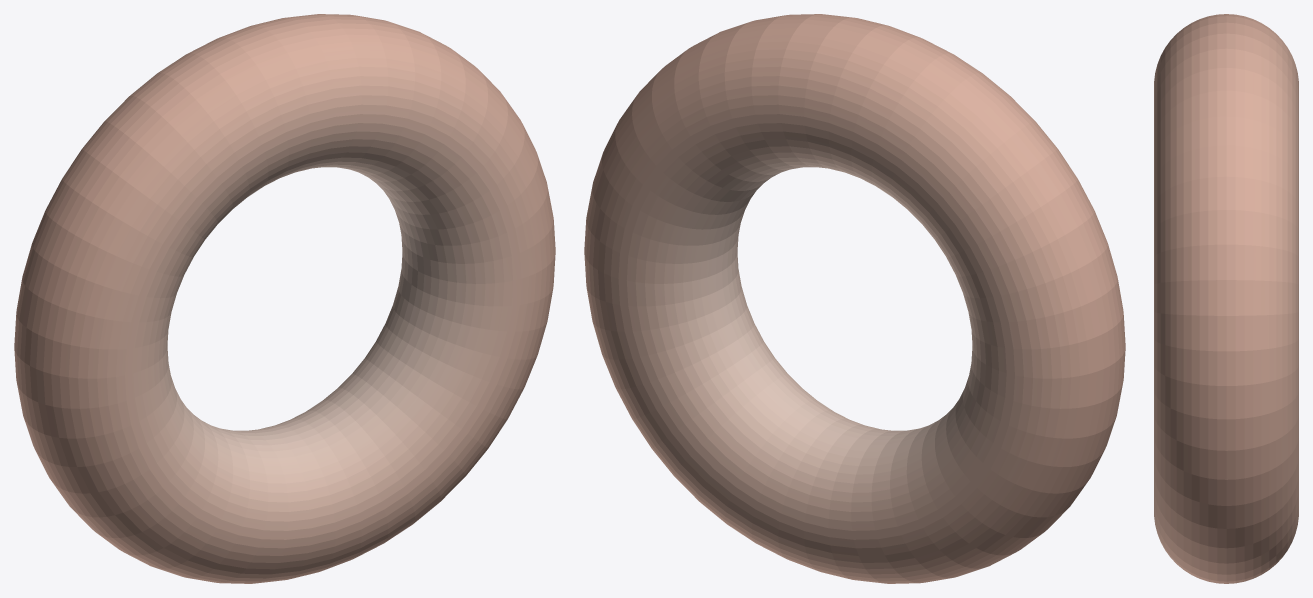
3 views of the same model, side by side, from view 1: azimuth 30°, elevation 25°; view 2: azimuth 150°, elevation 25°; view 3: azimuth 270°, elevation 25° (orthographic). The views are drawn at different scales.
Visible parts, largest first — view 1: world; view 2: world; view 3: world.
Boxes of the visible parts, bbox=[...] form: world: bbox=[14, 14, 555, 583]; world: bbox=[584, 14, 1125, 583]; world: bbox=[1154, 14, 1298, 583].
Size of the model in its own units: 27.73 by 27.68 by 7.05.
